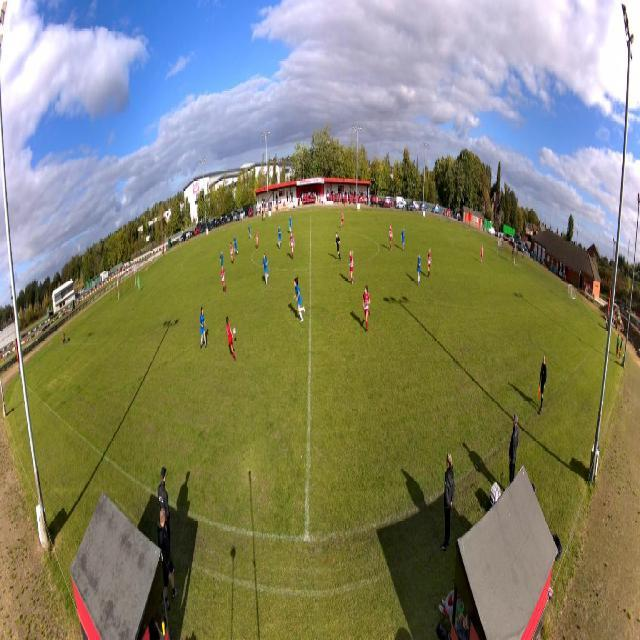ball: (233, 328, 236, 335)
player: (293, 277, 306, 323), (226, 316, 237, 363), (362, 284, 371, 334), (200, 306, 207, 351), (262, 252, 270, 288), (334, 232, 342, 261), (348, 248, 354, 285), (220, 266, 226, 297), (417, 251, 422, 288), (289, 231, 295, 260), (427, 246, 432, 280), (389, 225, 394, 252), (401, 227, 406, 251), (233, 234, 238, 258), (230, 241, 235, 265), (278, 224, 282, 250), (255, 228, 259, 250), (288, 214, 292, 235), (340, 210, 344, 230), (220, 250, 224, 270), (137, 275, 141, 294), (248, 224, 252, 241), (480, 244, 483, 264)
